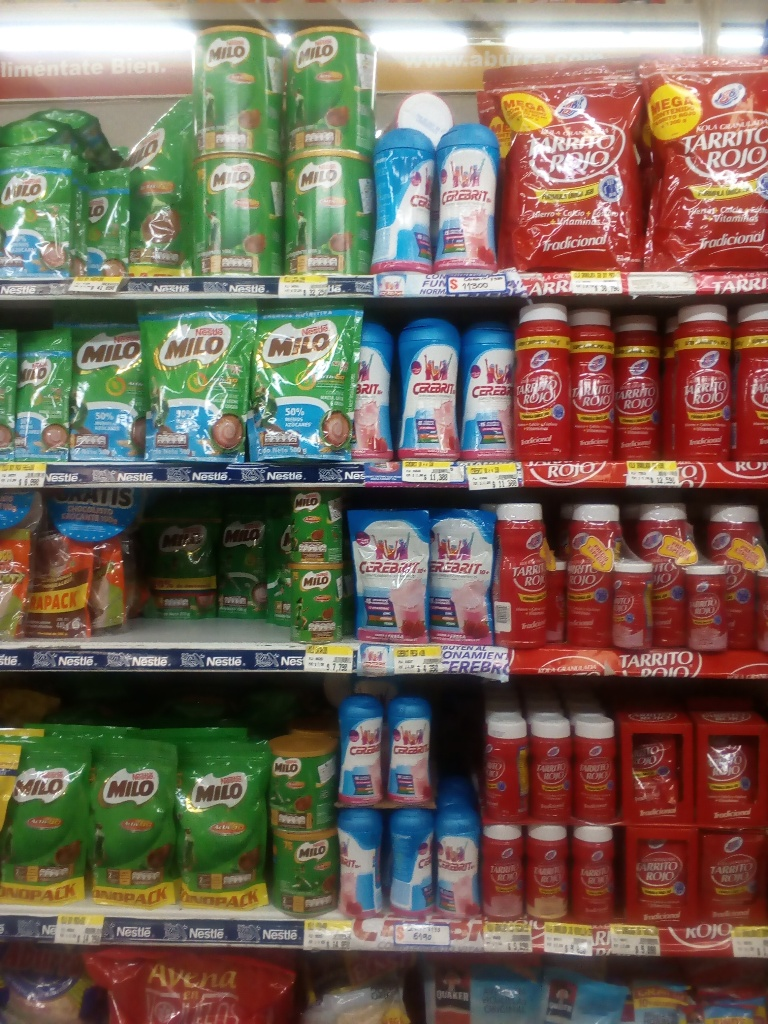COL0170103DYP44000: (26, 513, 118, 646)
COL0170203DYP25000: (215, 504, 256, 619)
COL0170203DYP50000: (169, 736, 273, 908)
COL0170203LAT20000: (288, 560, 344, 643)
COL0170203LAT40000: (270, 826, 340, 917)
COL0170205DYP20000: (0, 146, 82, 282)
COL0170205DYP50000: (248, 298, 360, 465)
